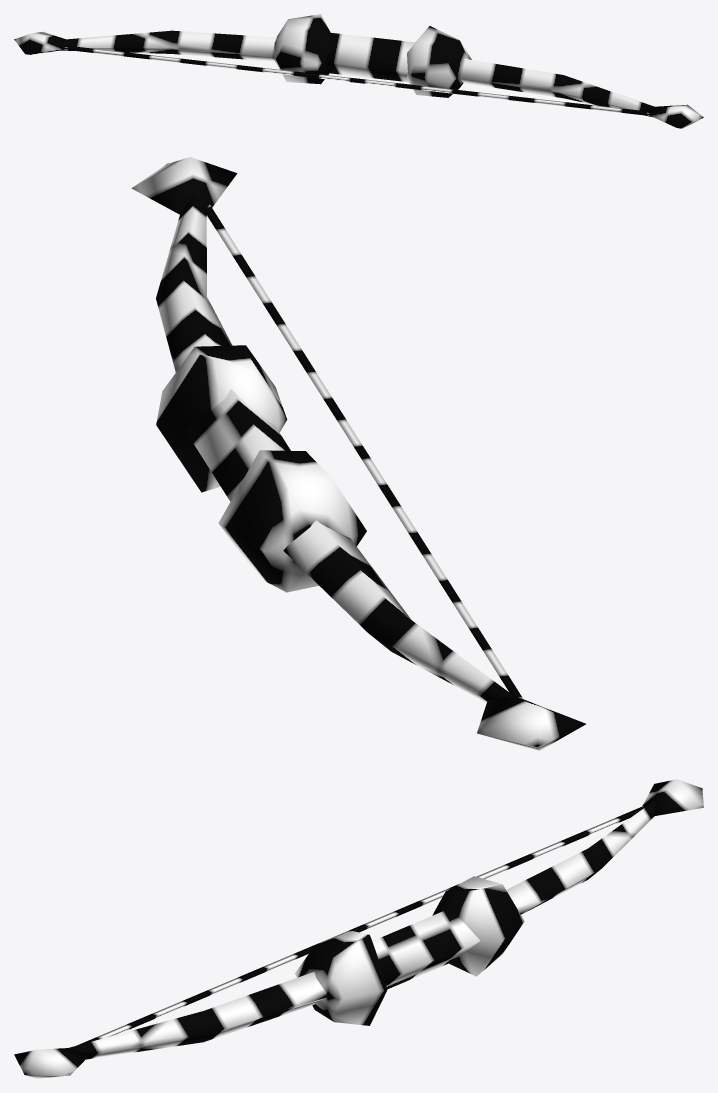
The model's file is initwebw1.dae.
3 views of the same model, one above another, from view 1: azimuth 30°, elevation 25°; view 2: azimuth 150°, elevation 25°; view 3: azimuth 270°, elevation 25° (orthographic). The views are drawn at different scales.
Visible parts, largest first — view 1: weapon; view 2: weapon; view 3: weapon.
Part boxes in pixels (left/top/right/bottom): weapon: left=14, top=14, right=703, bottom=128; weapon: left=131, top=157, right=585, bottom=750; weapon: left=14, top=779, right=703, bottom=1078.
Bounding box in the file's own units: 1.79 × 1.79 × 0.2607.
Materials: 1 (1 with a texture image).
